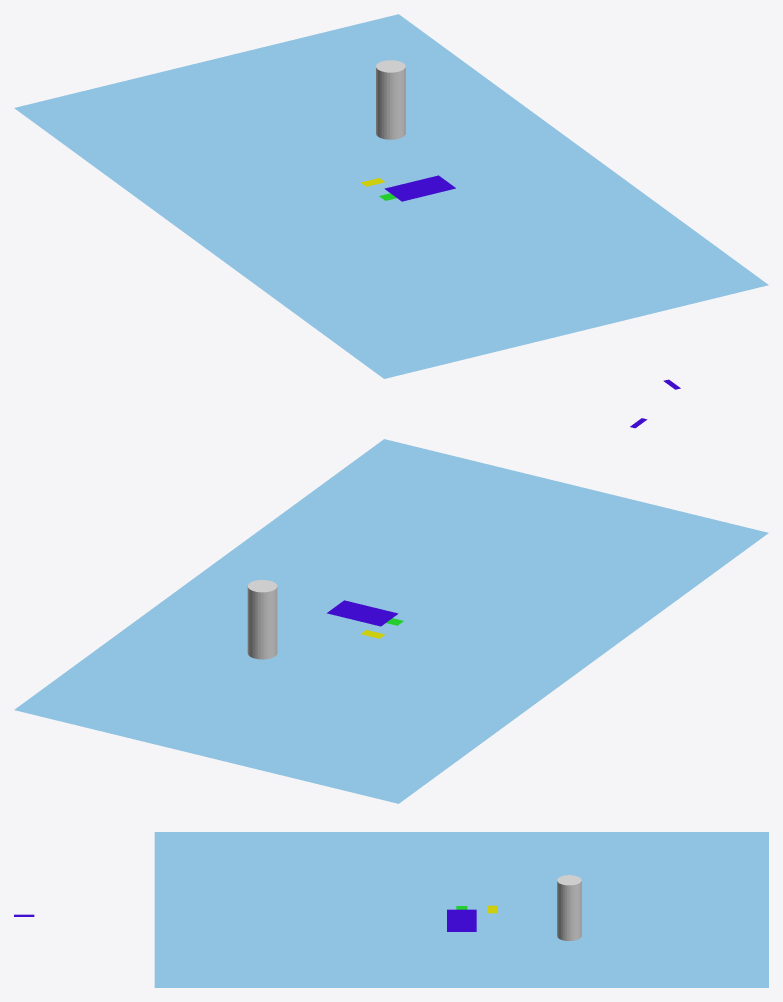
The model's file is aire_followng_line.dae.
3 renders of one model, top to bottom at view 1: azimuth 30°, elevation 25°; view 2: azimuth 150°, elevation 25°; view 3: azimuth 270°, elevation 25°, orthographic. The views are drawn at different scales.
Parts seen in each view (by area): view 1: Plan, Cylindre, Plan.001; view 2: Plan, Cylindre, Plan.001; view 3: Plan, Cylindre, Plan.001.
Boxes of the visible parts, x1,y1,x2,y2 form: Plan: (14, 14, 768, 378); Cylindre: (376, 60, 405, 139); Plan.001: (384, 175, 455, 201); Plan: (14, 439, 768, 803); Cylindre: (247, 580, 277, 659); Plan.001: (327, 600, 398, 626); Plan: (154, 832, 768, 987); Cylindre: (557, 875, 581, 940); Plan.001: (447, 909, 476, 931).
Size of the model in its own units: 12 by 24.58 by 2.
